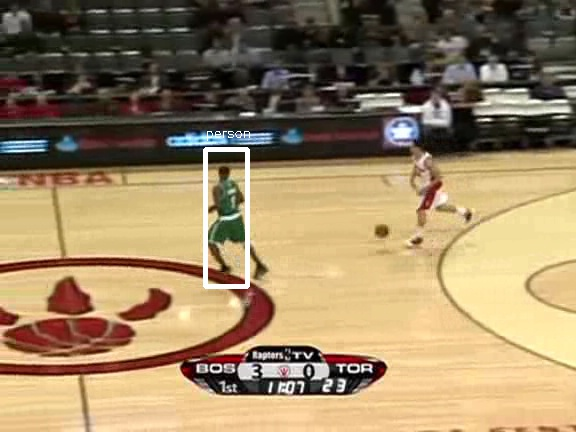person: (214, 174, 248, 255), (213, 174, 247, 255), (215, 174, 249, 255), (214, 173, 248, 254), (214, 175, 248, 256)
target_negative: (177, 243, 412, 366), (402, 123, 470, 364), (174, 270, 393, 340), (328, 58, 375, 328), (301, 28, 369, 81), (447, 391, 548, 425)
